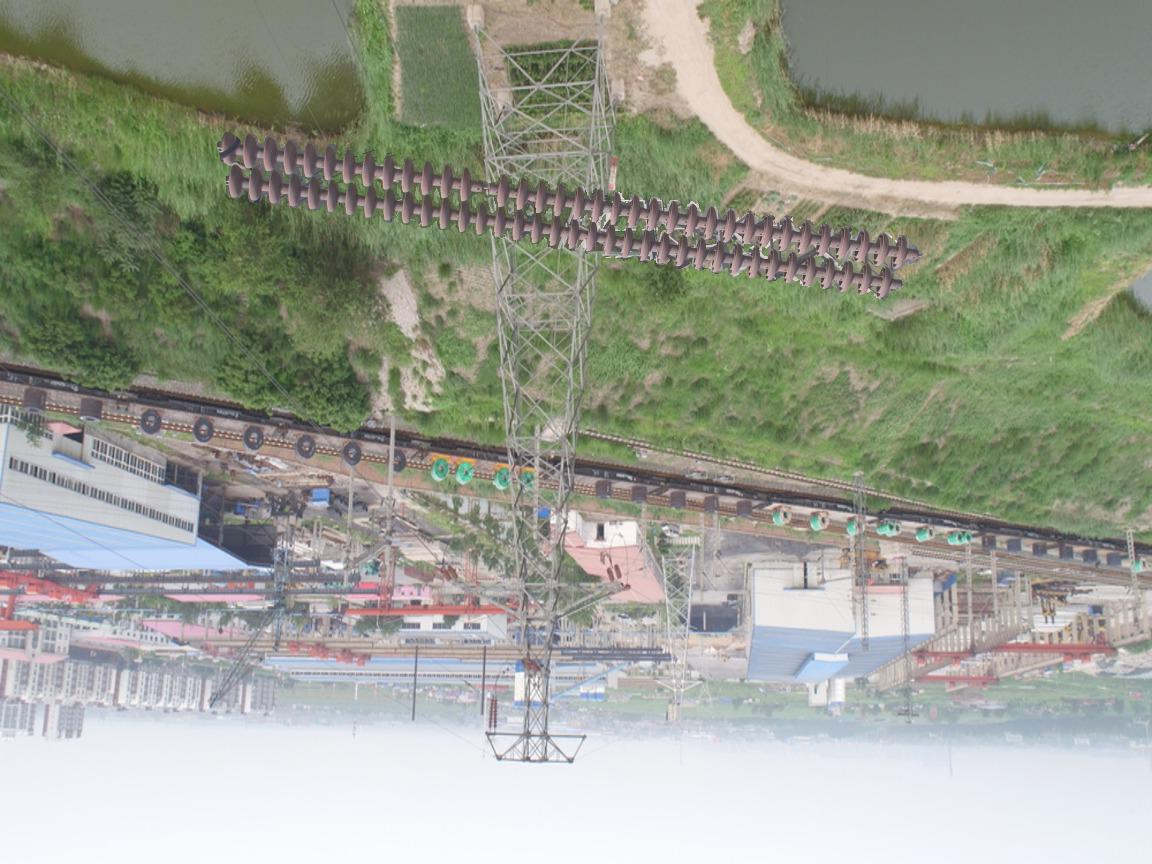insulator: (212, 129, 916, 304)
insulator_stringdrop: (454, 165, 512, 211)
